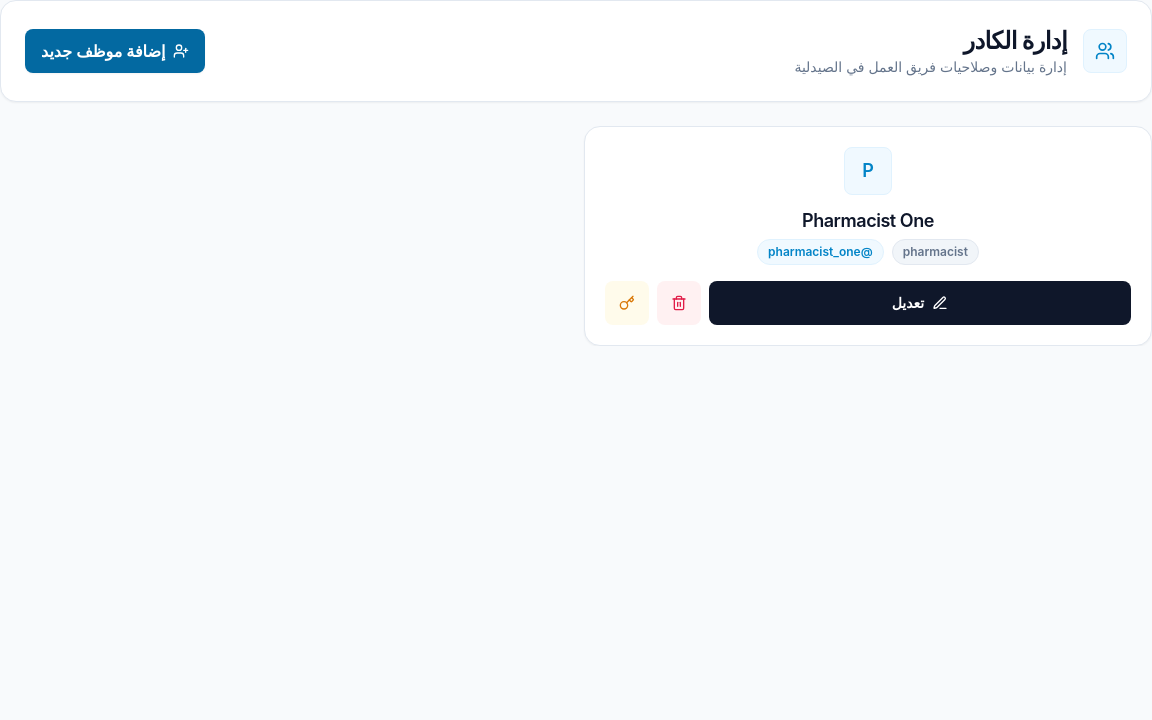
coverage gap: staff-management direct controls › enforces reset-password minimum length, preserves failure state, and closes after success
Click the button titled "إعادة تعيين كلمة المرور" at (627, 303), box [605,281,649,325]
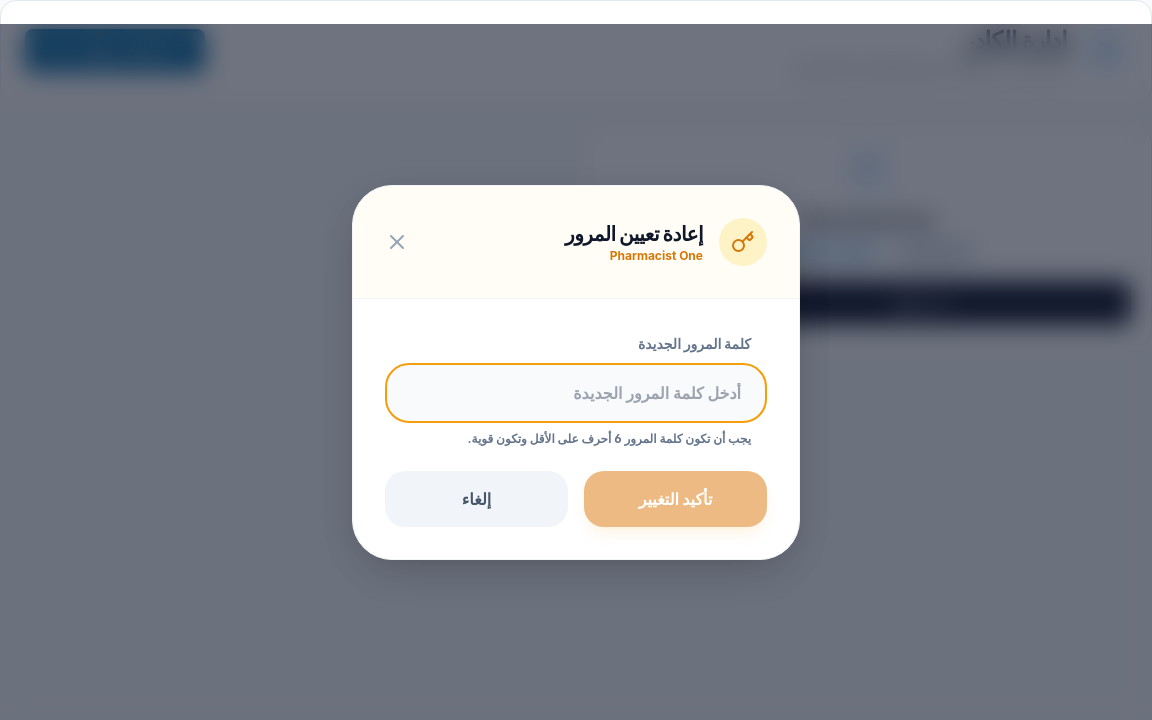
Type "12345" into the field with placeholder "أدخل كلمة المرور الجديدة" at (576, 392), box [385,362,767,422]
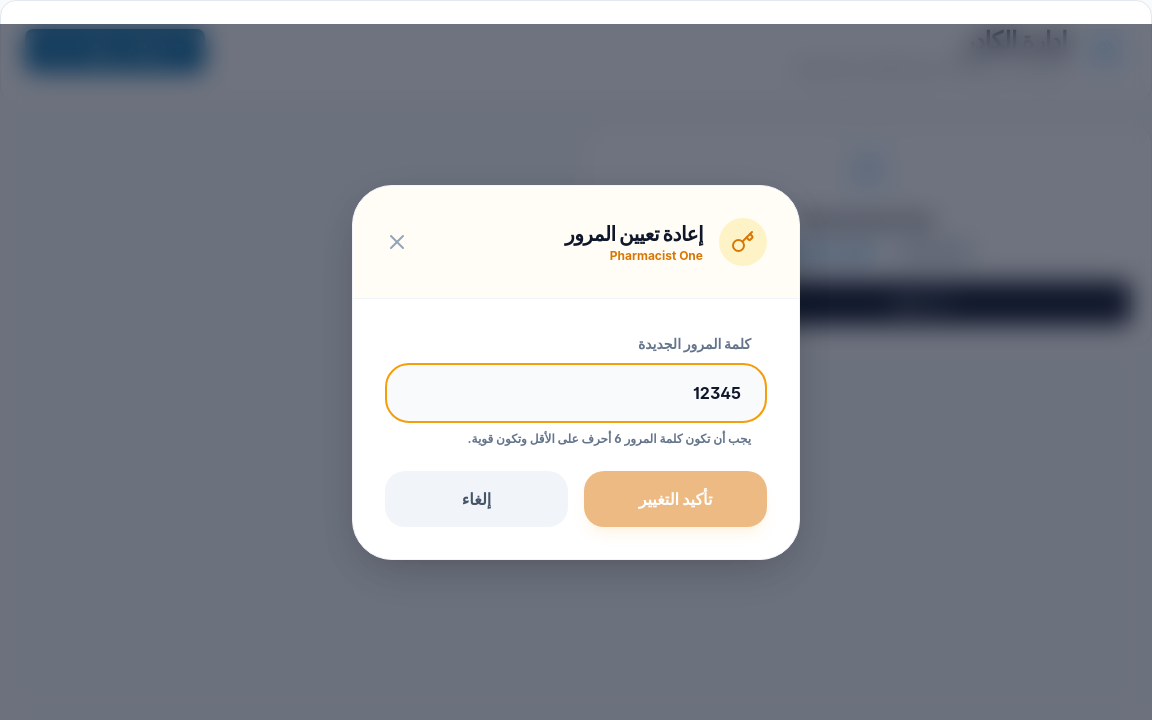
Result: the button "تأكيد التغيير" is disabled at [584,470,767,526]
Type "6" into the field with placeholder "أدخل كلمة المرور الجديدة" at (576, 392), box [385,362,767,422]
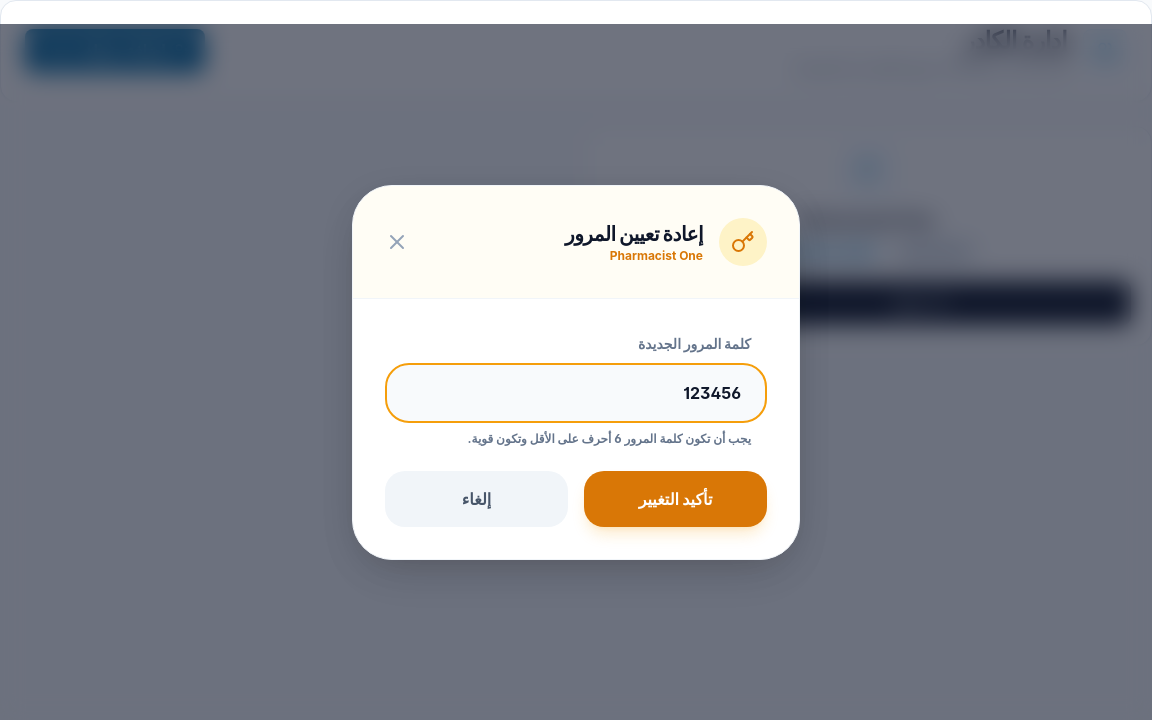
Result: the button "تأكيد التغيير" is enabled
Click the button "تأكيد التغيير" at (676, 498), box [584,470,767,526]
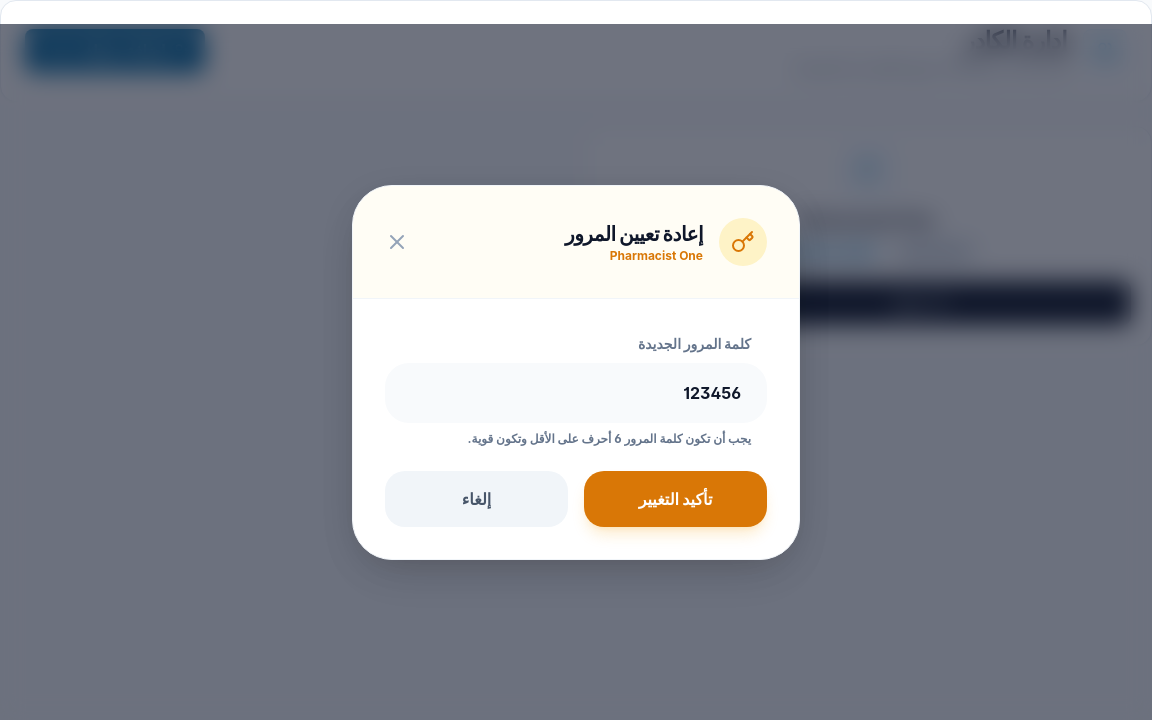
Result: the heading "إعادة تعيين المرور" is shown at [565,220,703,248]
Click the button "تأكيد التغيير" at (676, 498), box [584,470,767,526]
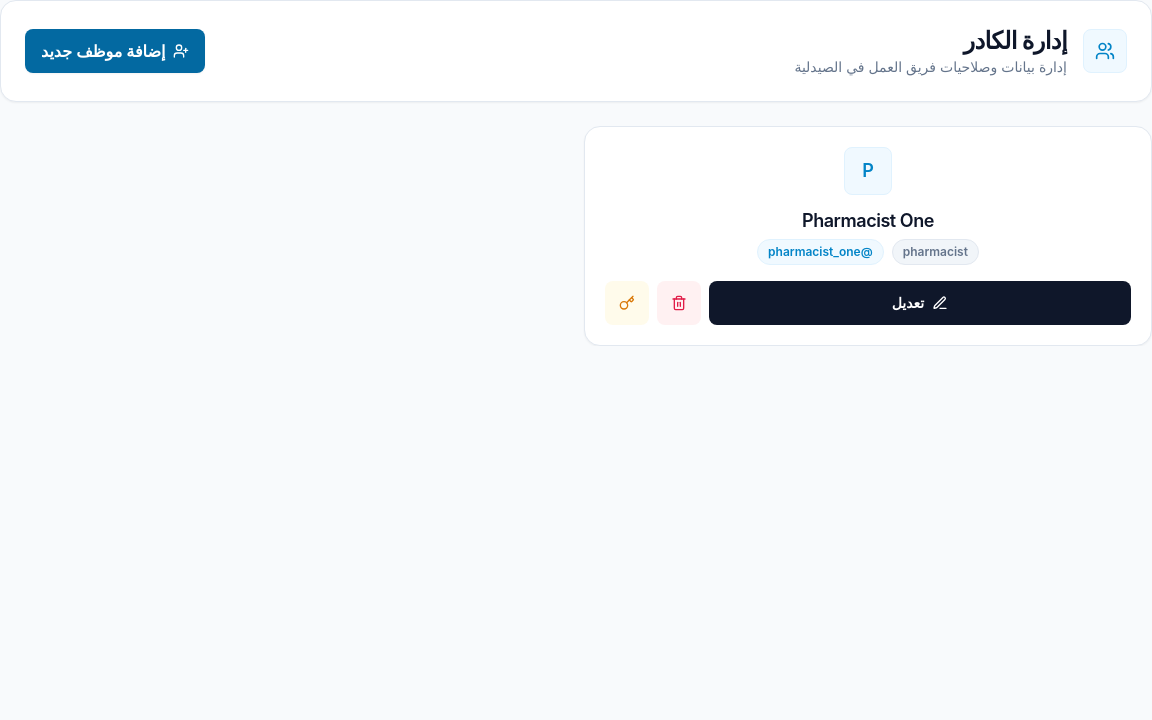
Result: the heading "إعادة تعيين المرور" is gone
